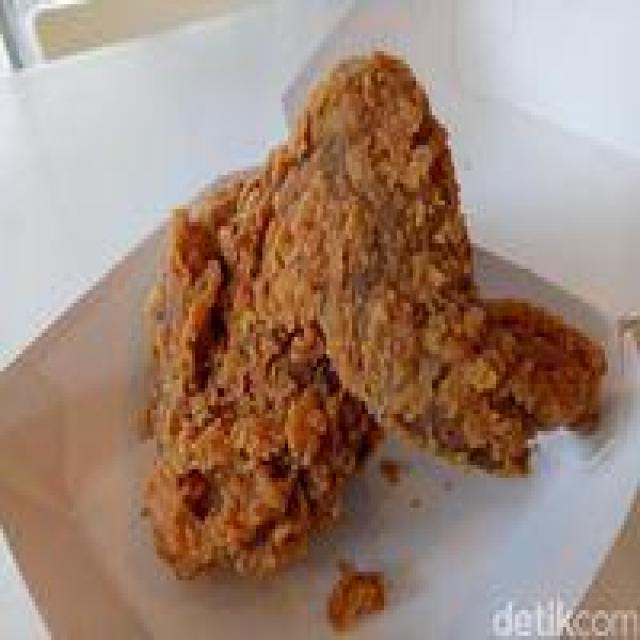Chicken -Fried Chicken-: (131, 47, 608, 584)
